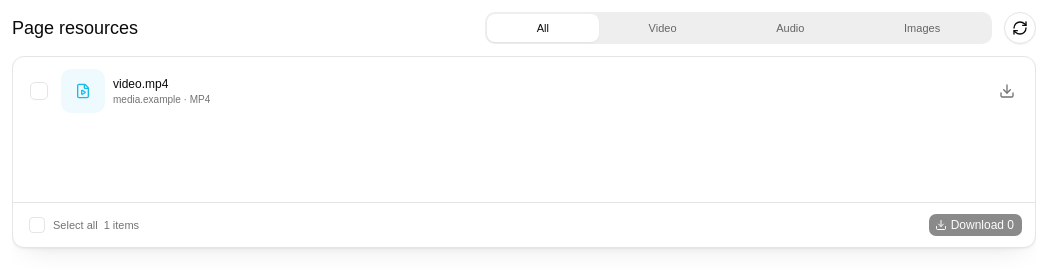
Test: MediaPanel resource rows › returns a failed resource action to idle so it can retry
Click the button named "Quick download video.mp4": (1007, 91) 991,75 -> 1023,107
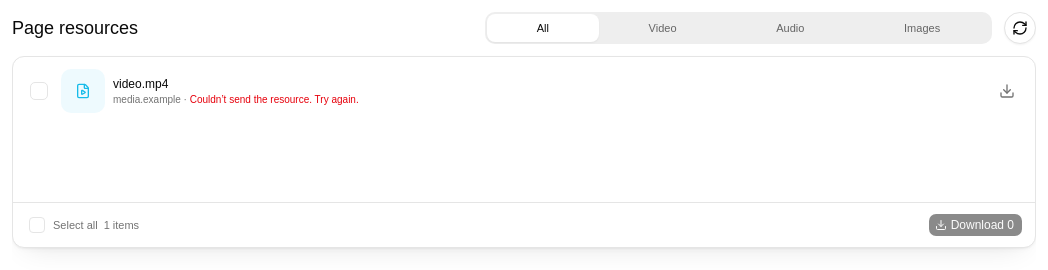
Now the text "Couldn’t send the resource. Try again." is shown, box 190,94 -> 359,104
Click the button named "Quick download video.mp4": (1007, 91) 991,75 -> 1023,107
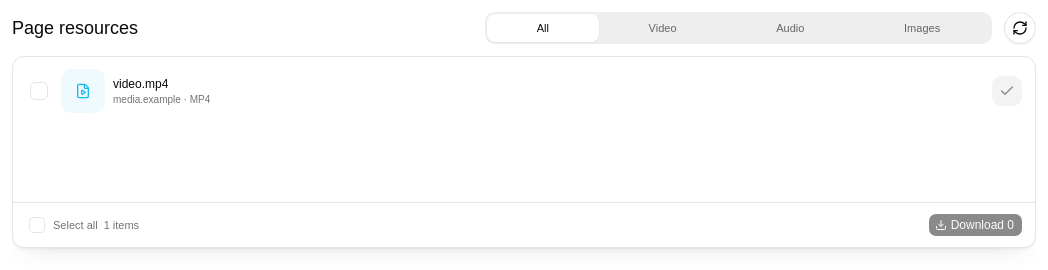
Now the button named "Sent video.mp4" is shown, box 991,75 -> 1023,107
